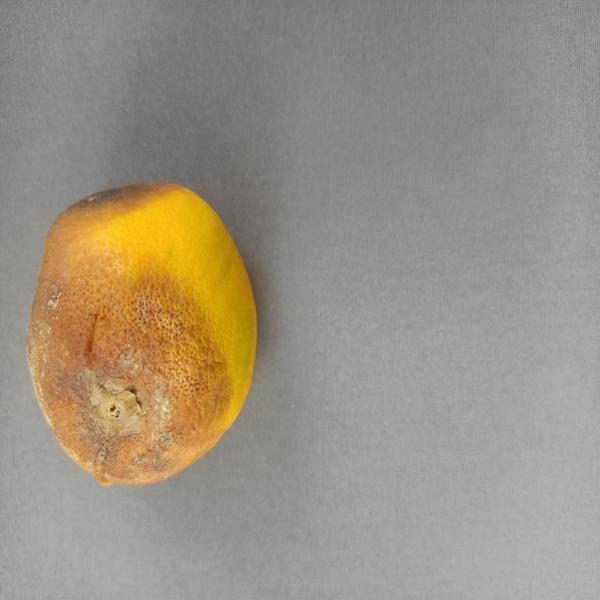Scab: (12, 176, 280, 504)
